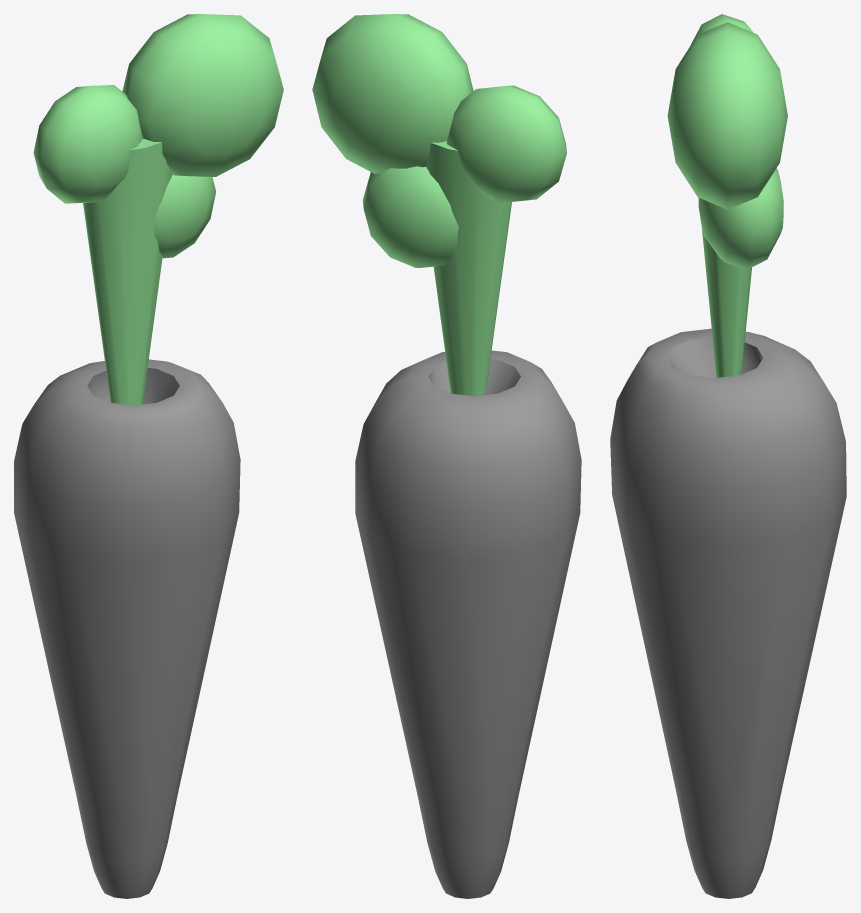
File: Carotte.FBX
3 views of the same model, side by side, from view 1: azimuth 30°, elevation 25°; view 2: azimuth 150°, elevation 25°; view 3: azimuth 270°, elevation 25° (orthographic). The views are drawn at different scales.
Parts seen in each view (by area): view 1: Carotte; view 2: Carotte; view 3: Carotte.
Boxes of the visible parts, box(x1,y1,x2,y2) form: Carotte: box(14, 14, 283, 898); Carotte: box(312, 14, 581, 898); Carotte: box(610, 14, 846, 898).
Size of the model in its own units: 0.7393 by 2.42 by 0.5777.
